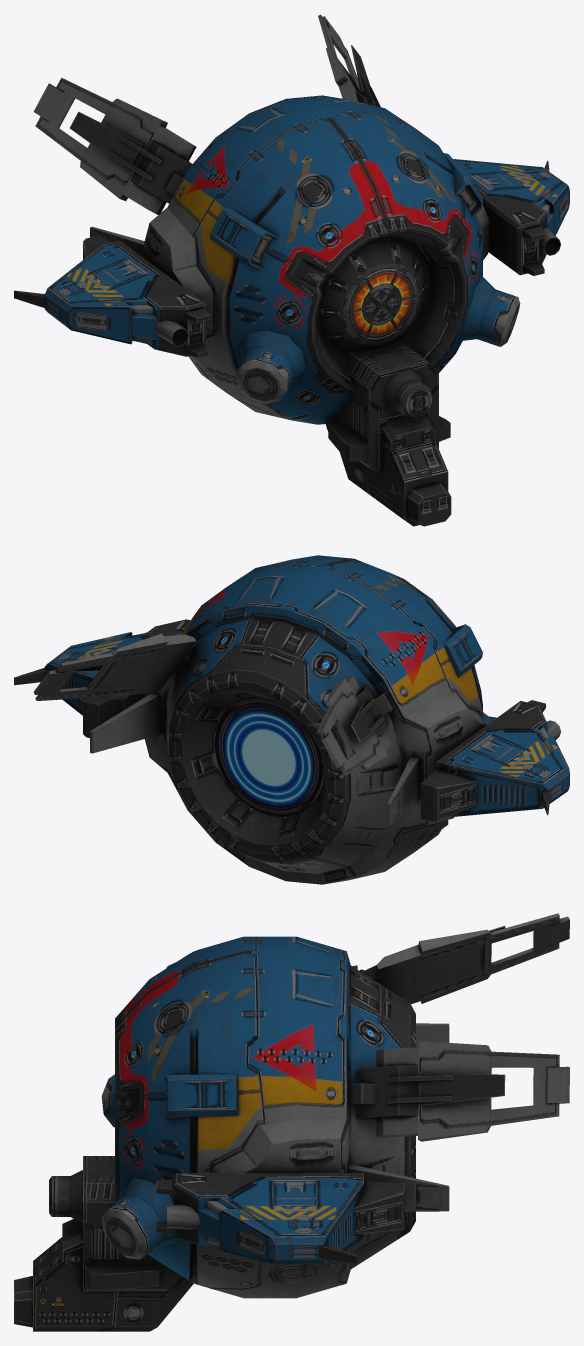
Rendered from ZR7_blue.FBX.
3 views of the same model, one above another, from view 1: azimuth 30°, elevation 25°; view 2: azimuth 150°, elevation 25°; view 3: azimuth 270°, elevation 25° (orthographic). The views are drawn at different scales.
Parts seen in each view (by area): view 1: SF_Drone-ZR7; view 2: SF_Drone-ZR7; view 3: SF_Drone-ZR7.
Part boxes in pixels (box(x1,y1,x2,y2)): SF_Drone-ZR7: box(14, 14, 569, 526); SF_Drone-ZR7: box(14, 555, 569, 884); SF_Drone-ZR7: box(14, 913, 569, 1331).
Size of the model in its own units: 56.71 by 45.77 by 33.86.
